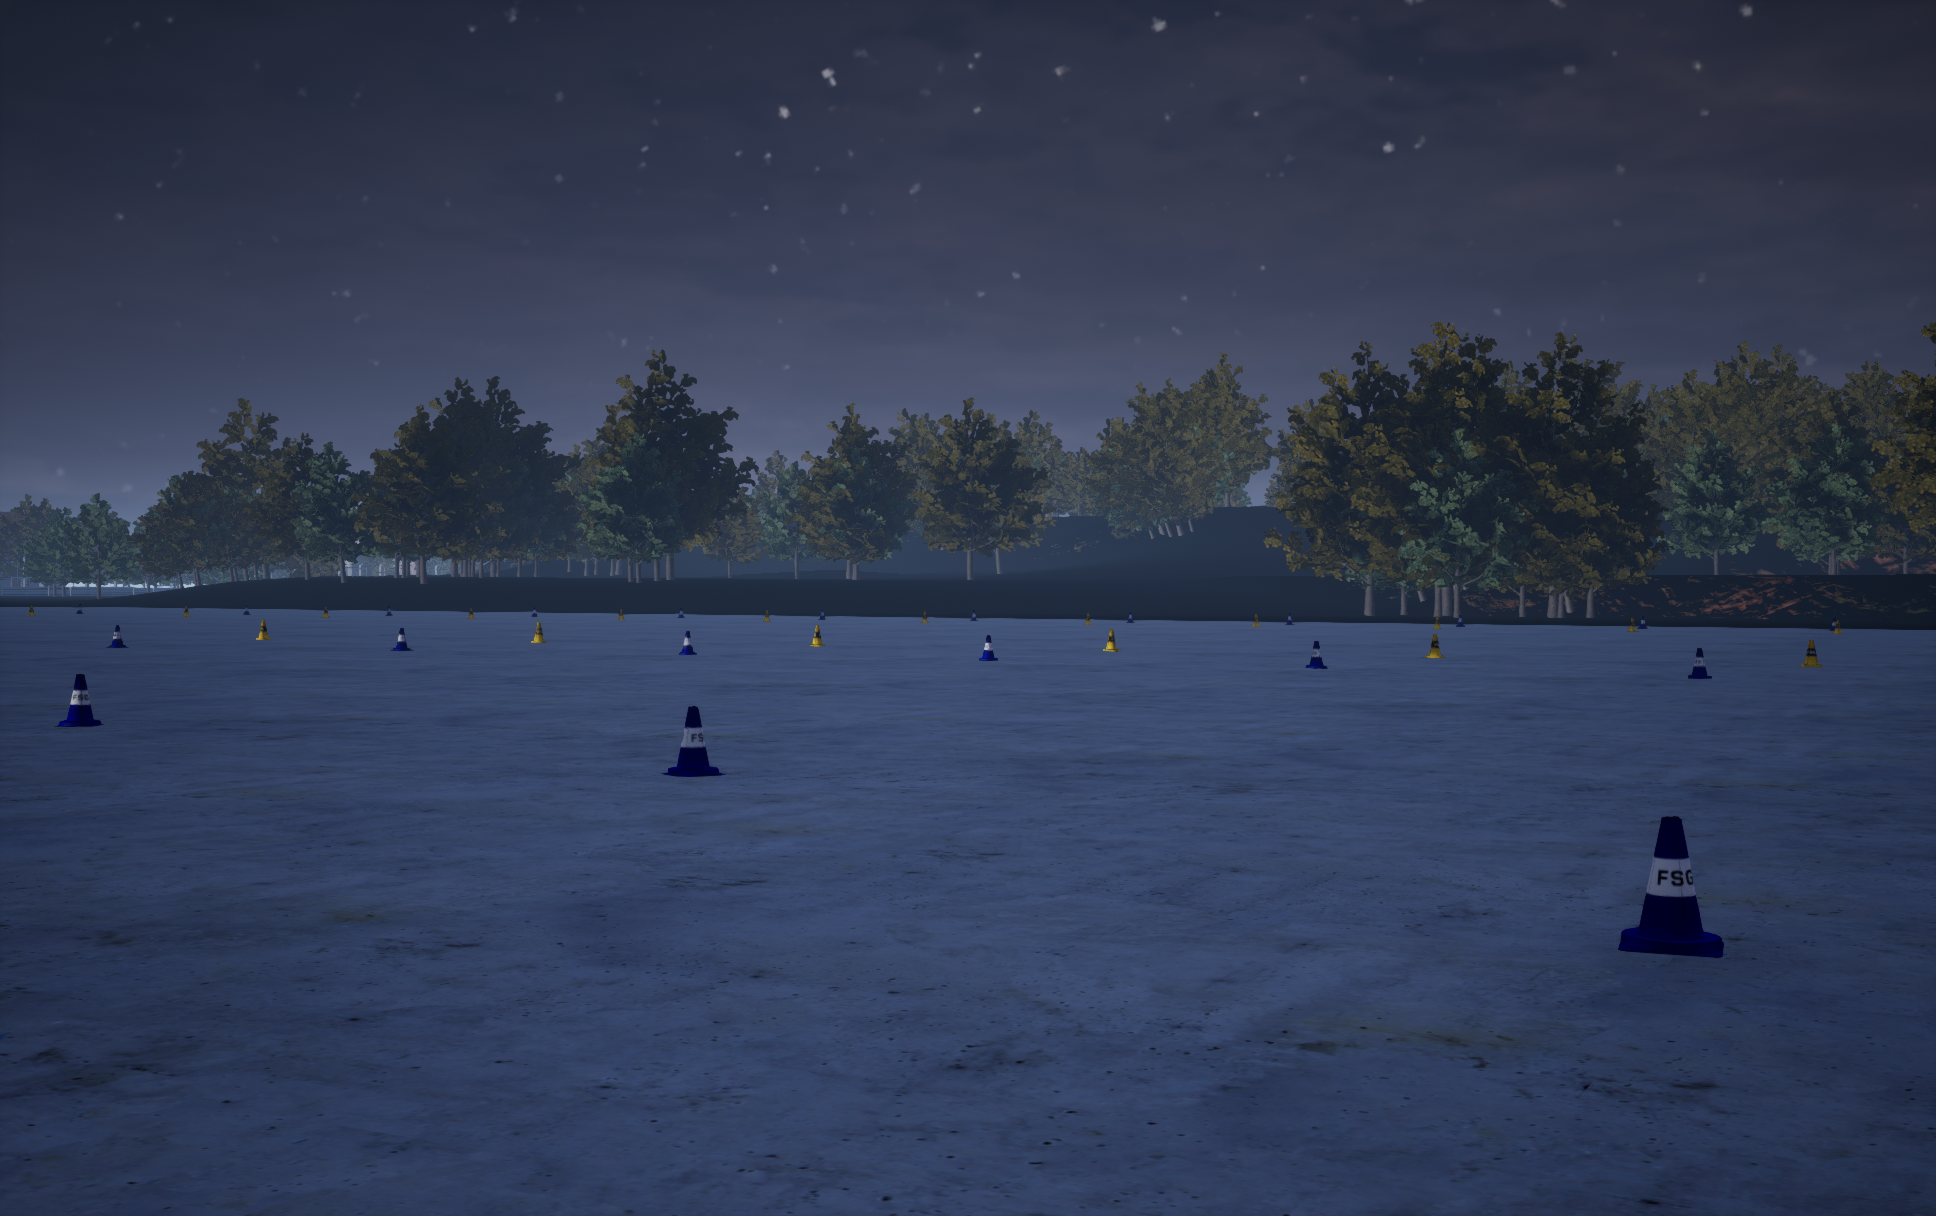blue: (1800, 640, 1821, 665), (1423, 635, 1446, 657), (1102, 629, 1119, 651), (531, 622, 546, 642), (810, 625, 824, 646), (256, 621, 270, 639)
yellow: (1618, 815, 1723, 957), (661, 706, 726, 776), (55, 674, 104, 726), (1688, 649, 1710, 678), (1306, 642, 1327, 668), (389, 628, 413, 650), (978, 635, 997, 660), (106, 625, 127, 647), (679, 630, 696, 654)
